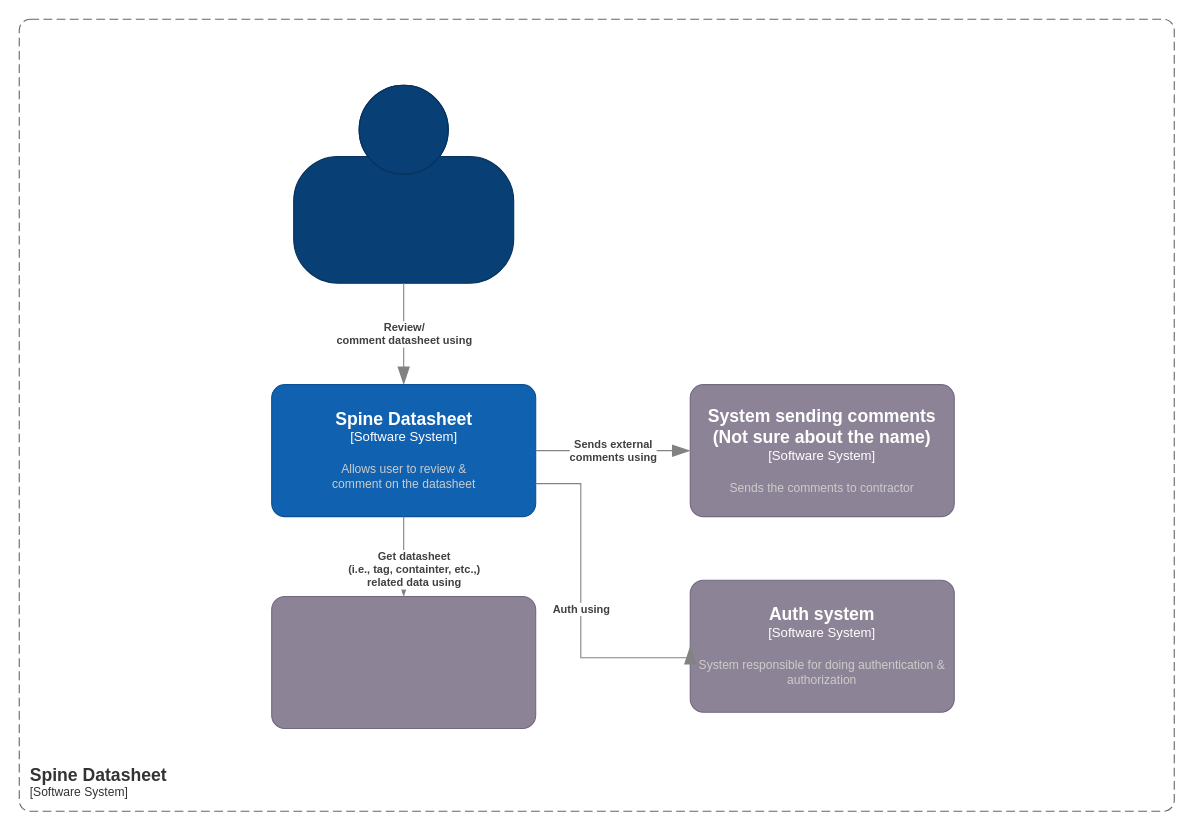
The diagram is 1194 pixels wide and 831 high, and some of its shapes have lost their labels. The box of each missing label's shape, as (x1, y1, x2, y2) in pixels:
Comment reponsible, Reviewer [Person] Internal Equinor user: (293, 84, 514, 283)
FAM [Software System] System that stores the Tag data.: (271, 595, 536, 729)
